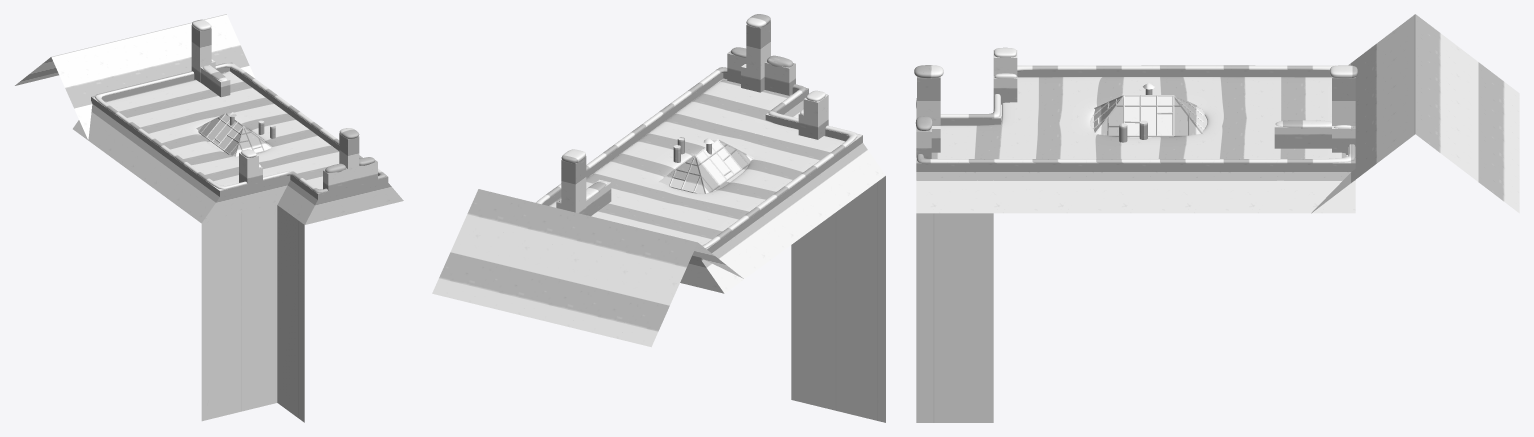
The model's file is env_Roof.fbx.
The picture shows the model from 3 angles, left to right: view 1: azimuth 30°, elevation 25°; view 2: azimuth 150°, elevation 25°; view 3: azimuth 270°, elevation 25°; orthographic projection. The views are drawn at different scales.
Parts seen in each view (by area): view 1: env_Rooftop, env_RooftopSnow; view 2: env_Rooftop, env_RooftopSnow; view 3: env_Rooftop, env_RooftopSnow.
Boxes of the visible parts, x1,y1,x2,y2 form: env_Rooftop: (15,14,403,422); env_RooftopSnow: (95,19,385,192); env_Rooftop: (432,20,885,422); env_RooftopSnow: (536,14,857,248); env_Rooftop: (916,14,1519,422); env_RooftopSnow: (914,47,1357,163).
Bounding box in the file's own units: 14.24 × 21.46 × 30.32.
Materials: 1 (1 with a texture image).
